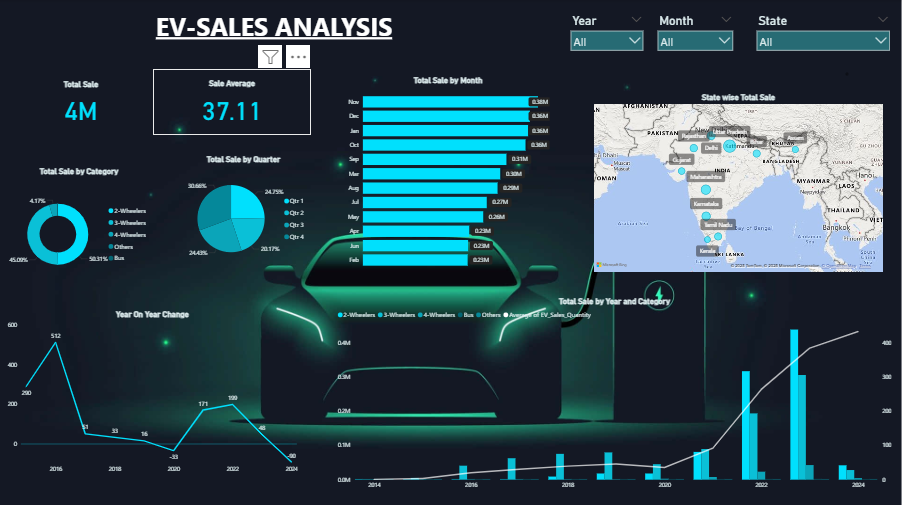

The dashboard page shown, as its layout file describes it:
{"tool":"powerbi","page":{"name":"Dashboard","canvas":[1920,1080],"ordinal":3},"visuals":[{"type":"map","title":"State wise Total Sale","fields":{"Category":["ev.State"],"Size":["Sum(ev.EV_Sales_Quantity)"]},"box":[1248,178.6,652.7,420.9],"z":0},{"type":"donutChart","title":"Total Sale by Category","fields":{"Category":["ev.Vehicle_Category"],"Y":["Sum(ev.EV_Sales_Quantity)"]},"box":[0,335.9,344.4,304],"z":1000},{"type":"pieChart","title":"Total Sale by Quarter","fields":{"Y":["Sum(ev.EV_Sales_Quantity)"],"Category":["ev.Date.Variation.Date Hierarchy.Quarter"]},"box":[363.5,310.4,316.8,289.1],"z":2000},{"type":"clusteredBarChart","title":"Total Sale by Month","fields":{"Y":["Sum(ev.EV_Sales_Quantity)"],"Category":["ev.Month_Name"]},"box":[720.7,142.4,472,457.1],"z":3000},{"type":"lineChart","title":"Year On Year Change","fields":{"Category":["ev.Date.Variation.Date Hierarchy.Year"],"Y":["DAX.YOY"]},"box":[0,639.9,656.9,393.3],"z":4000},{"type":"card","title":"Total Sale ","fields":{"Values":["Sum(ev.EV_Sales_Quantity)"]},"box":[8.5,150.9,335.9,138.2],"z":5000},{"type":"card","title":"Sale Average","fields":{"Values":["Avg(ev.EV_Sales_Quantity)"]},"box":[329.5,148.8,335.9,140.3],"z":6000},{"type":"slicer","title":"Year","fields":{"Values":["ev.Date.Variation.Date Hierarchy.Year"]},"box":[1192.7,10.6,204.1,131.8],"z":7000},{"type":"slicer","title":"Year","fields":{"Values":["ev.Date.Variation.Date Hierarchy.Month"]},"box":[1377.5,10,210,132.5],"z":8000},{"type":"slicer","title":"Year","fields":{"Values":["ev.State"]},"box":[1587.5,10,332.5,132.5],"z":9000},{"type":"lineClusteredColumnComboChart","title":"Total Sale by Year and Category","fields":{"Y":["Sum(ev.EV_Sales_Quantity)"],"Y2":["Avg(ev.EV_Sales_Quantity)"],"Series":["ev.Vehicle_Category"],"Category":["ev.Date.Variation.Date Hierarchy.Year"]},"box":[701.6,612.3,1218.2,455],"z":10000},{"type":"textbox","box":[0,0,1173.5,150.9],"z":11000}]}

Visuals, with their boxes in screenshot pixels (x1, y1, x2, y2), scaled from the page's 1920x1080 canvas onto the 902x505 screenshot:
"State wise Total Sale" map: region(586, 84, 893, 280)
"Total Sale by Category" donutChart: region(0, 157, 162, 299)
"Total Sale by Quarter" pieChart: region(171, 145, 320, 280)
"Total Sale by Month" clusteredBarChart: region(339, 67, 560, 280)
"Year On Year Change" lineChart: region(0, 299, 309, 483)
"Total Sale " card: region(4, 71, 162, 135)
"Sale Average" card: region(155, 70, 313, 135)
"Year" slicer: region(560, 5, 656, 67)
"Year" slicer: region(647, 5, 746, 67)
"Year" slicer: region(746, 5, 901, 67)
"Total Sale by Year and Category" lineClusteredColumnComboChart: region(330, 286, 901, 499)
textbox: region(0, 0, 551, 71)
